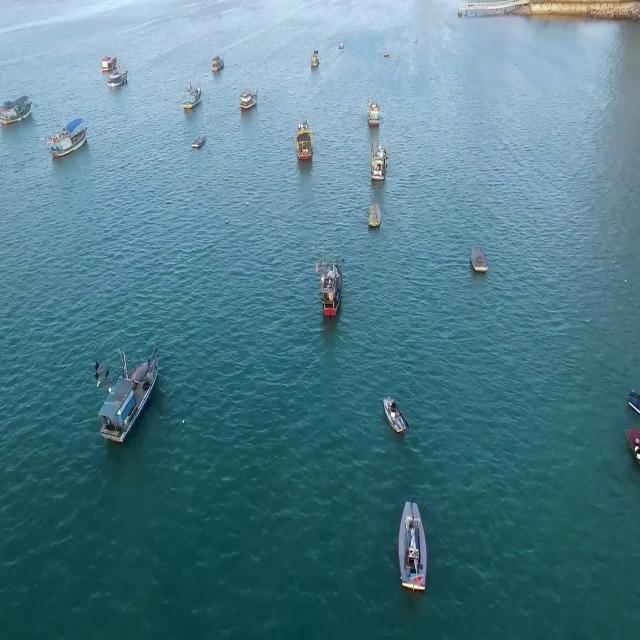ship: (97, 348, 160, 445), (396, 503, 428, 598), (46, 116, 89, 158), (318, 258, 340, 318), (383, 396, 410, 436), (1, 94, 33, 126), (102, 55, 130, 90), (370, 144, 389, 183), (296, 118, 313, 160), (367, 194, 382, 236), (367, 98, 383, 132), (183, 83, 201, 113), (471, 247, 489, 276), (238, 90, 257, 110), (309, 48, 320, 74), (192, 130, 205, 152), (212, 55, 226, 74)
